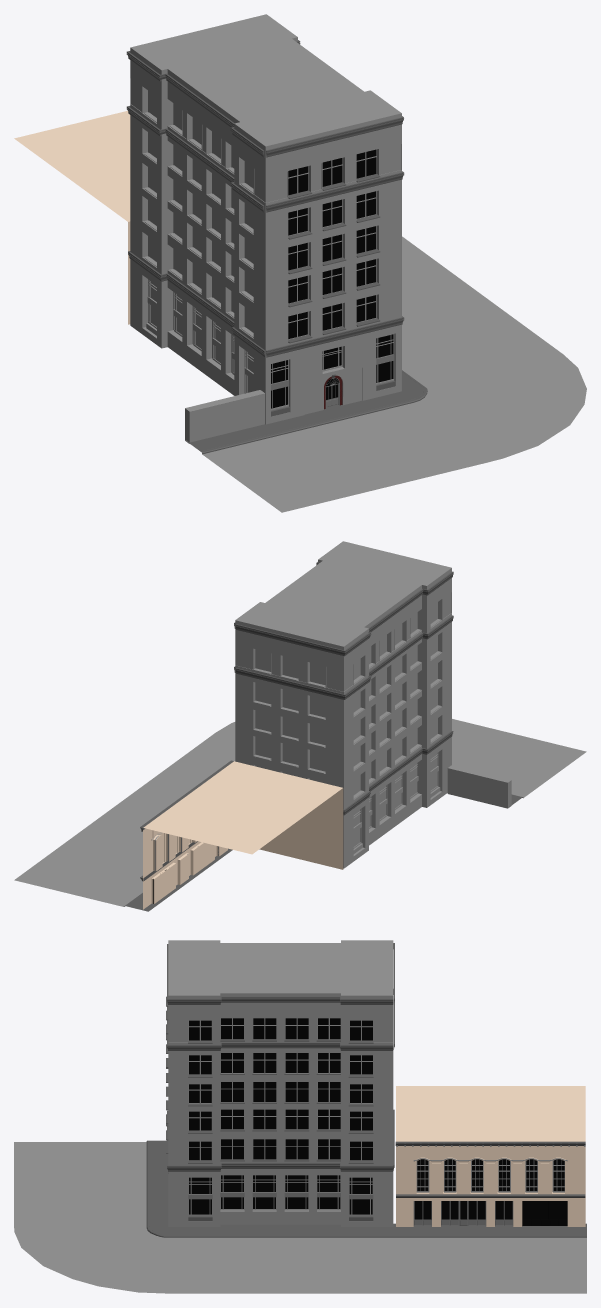
The picture shows the model from 3 angles, top to bottom: view 1: azimuth 30°, elevation 25°; view 2: azimuth 150°, elevation 25°; view 3: azimuth 270°, elevation 25°; orthographic projection. The views are drawn at different scales.
Parts seen in each view (by area): view 1: Main_Building, Road, Plane04; view 2: Main_Building, Road, Plane04; view 3: Main_Building, Road, Plane04.
Part boxes in pixels (box(x1,y1,x2,y2)): Main_Building: box(126, 14, 404, 424); Road: box(185, 236, 586, 512); Plane04: box(14, 110, 130, 324); Main_Building: box(234, 541, 453, 868); Road: box(14, 719, 586, 911); Plane04: box(140, 760, 343, 909); Main_Building: box(166, 940, 394, 1226); Road: box(14, 1140, 586, 1293); Plane04: box(395, 1086, 585, 1226).
Size of the model in its own units: 8952 by 6408 by 14304.
